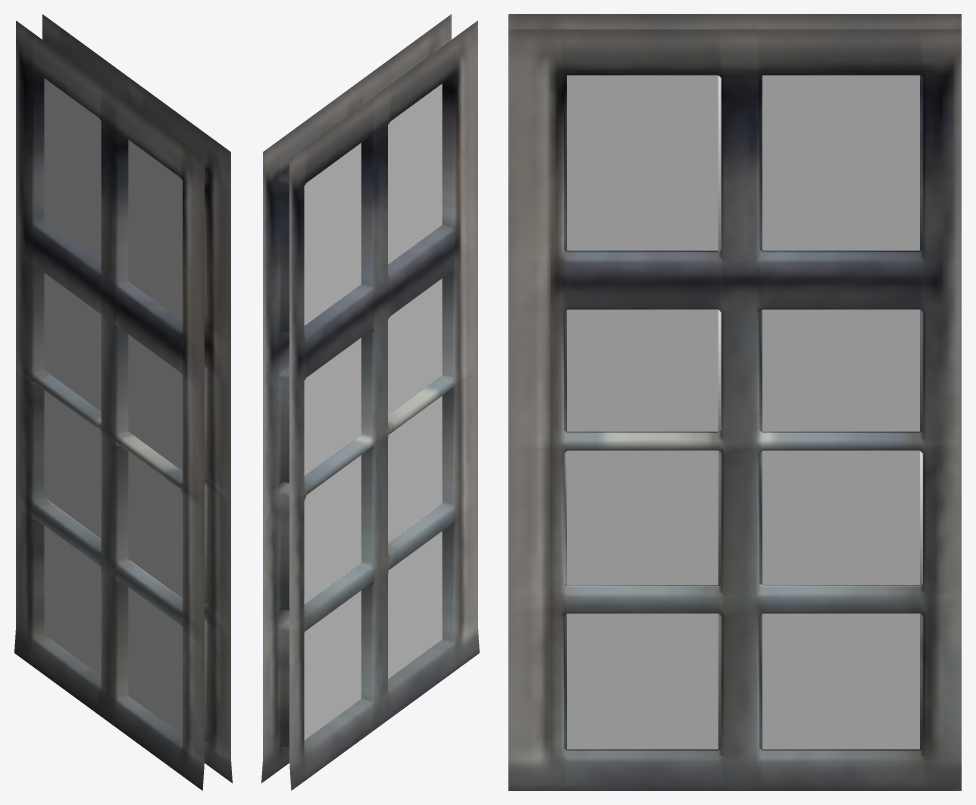
Rendered from Window.fbx.
3 views of the same model, side by side, from view 1: azimuth 30°, elevation 25°; view 2: azimuth 150°, elevation 25°; view 3: azimuth 270°, elevation 25° (orthographic). The views are drawn at different scales.
Visible parts, largest first — view 1: Facade2.005; view 2: Facade2.005; view 3: Facade2.005.
Boxes of the visible parts, x1=… form: Facade2.005: x1=14, y1=14, x2=232, y2=790; Facade2.005: x1=261, y1=14, x2=479, y2=790; Facade2.005: x1=508, y1=14, x2=961, y2=790.
Size of the model in its own units: 3.84 by 77.2 by 41.72.
